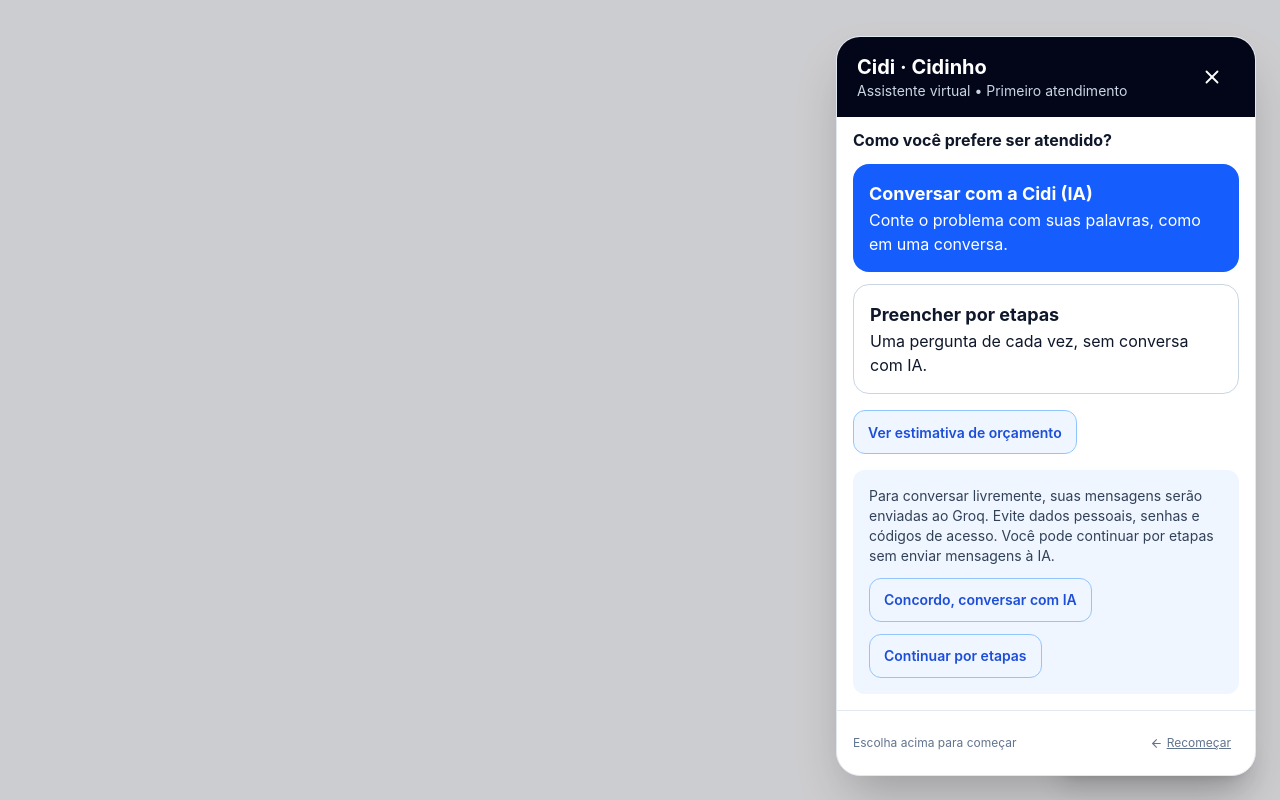
Test case: relato e modelo da conversa são usados no orçamento e preservados ao continuar a visita
This screenshot has width=1280, height=800.
Earlier steps of the test are not shown.
(page scrolled)
Click the button "Concordo, conversar com IA" at (980, 600), box [869,578,1092,622]
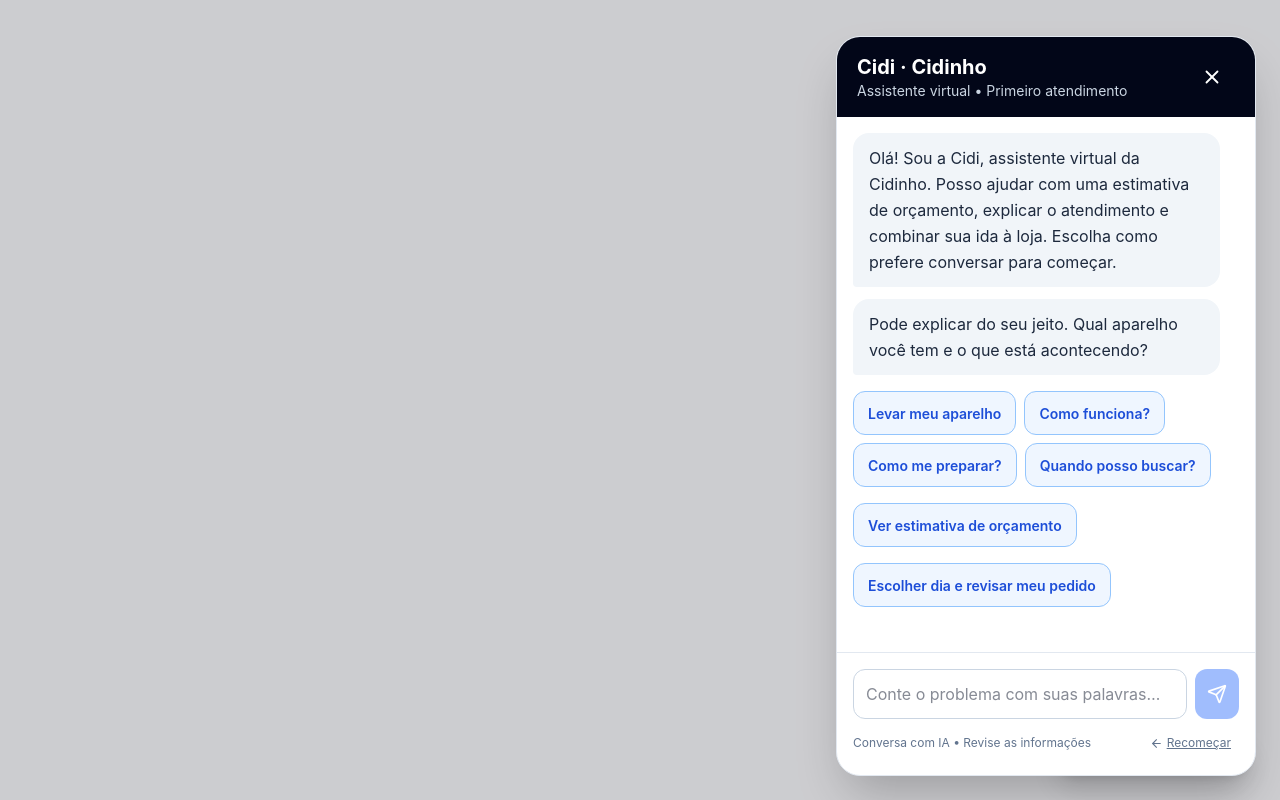
Type "Tô com problemas na tela do meu S23, queria um orçamento" into the field named "Sua mensagem para a Cidi" at (1020, 694), box [853,669,1187,719]
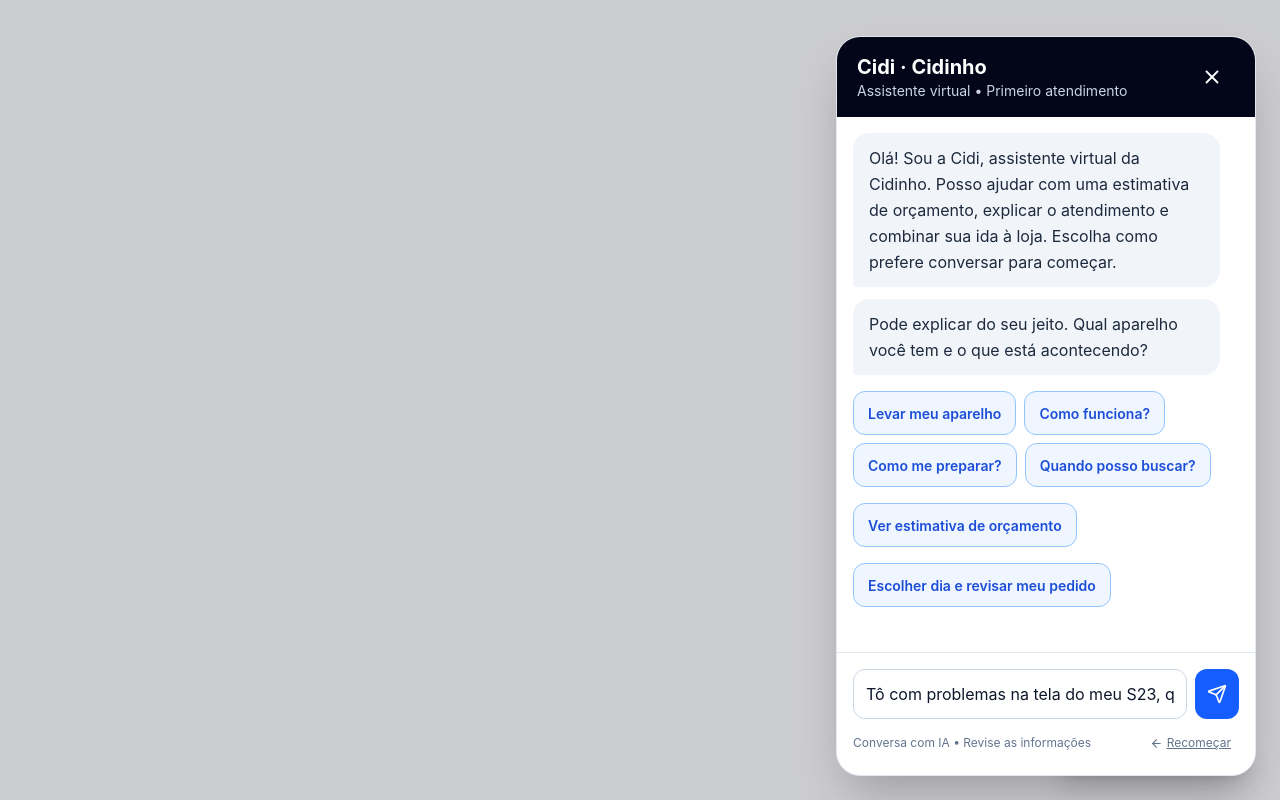
Click the button named "Enviar mensagem" at (1217, 694), box [1195,669,1239,719]
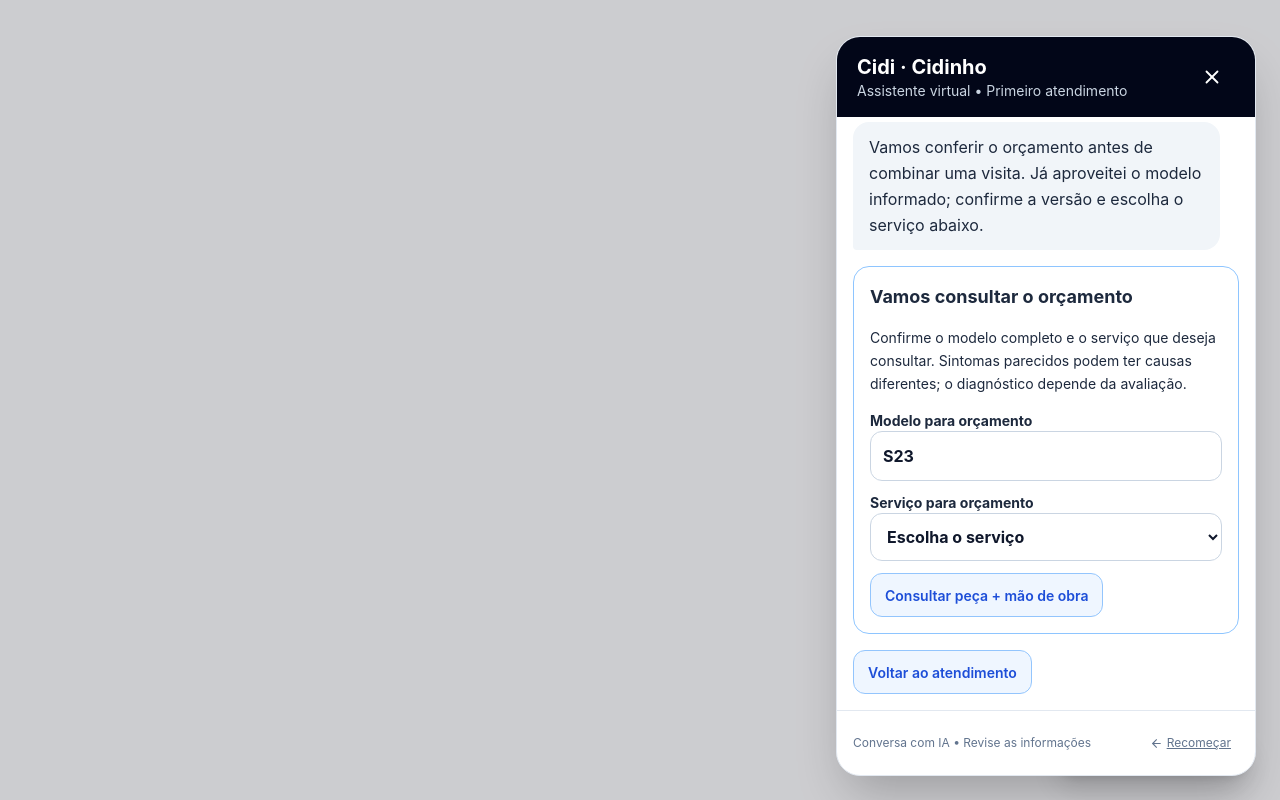
Expected: the text "Vamos conferir o orçamento antes de combinar uma visita" is shown, [869,137,1206,235]
Expected: the field labelled "Modelo para orçamento" holds "S23", [870,431,1222,481]
Select "Troca de tela" in the dropdown labelled "Serviço para orçamento" at (1046, 537), box [870,513,1222,561]
Click the button "Consultar peça + mão de obra" at (987, 595), box [870,573,1104,617]
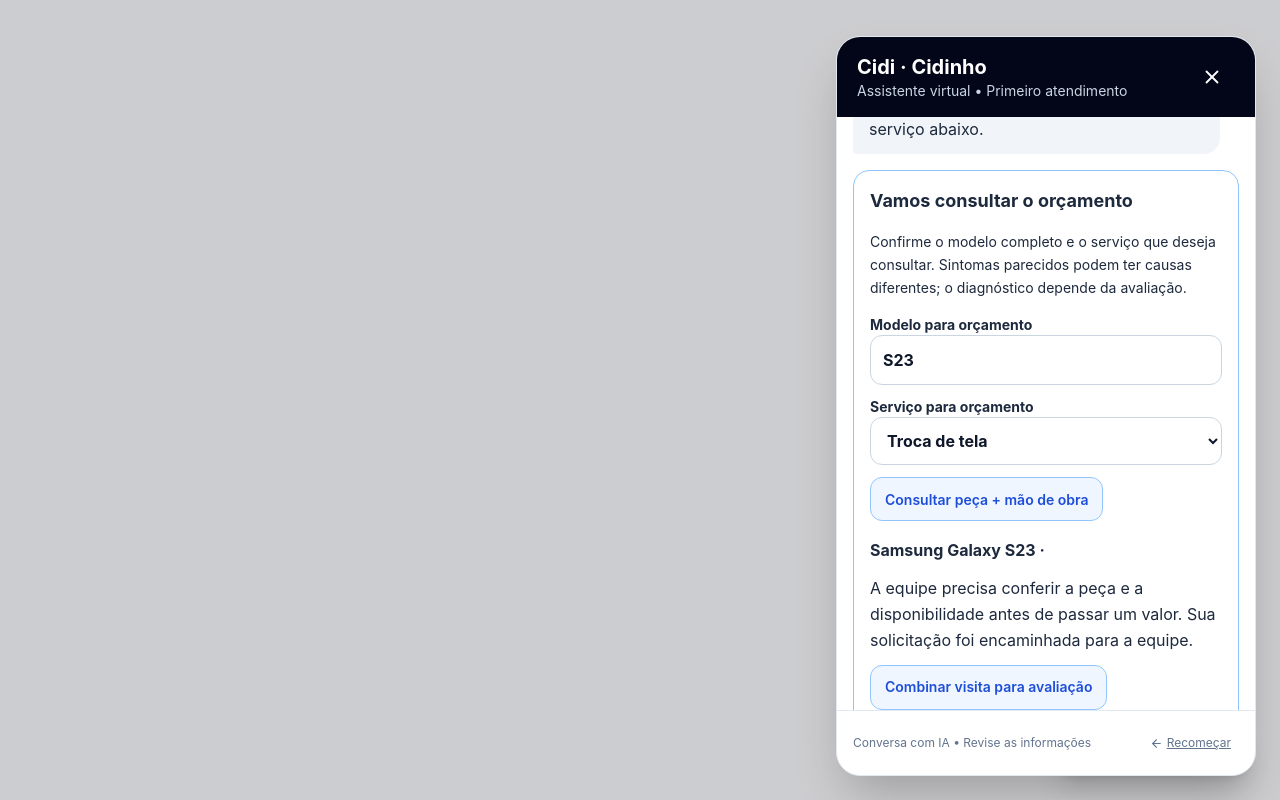
Click the button "Combinar visita para avaliação" at (989, 688), box [870,665,1107,710]
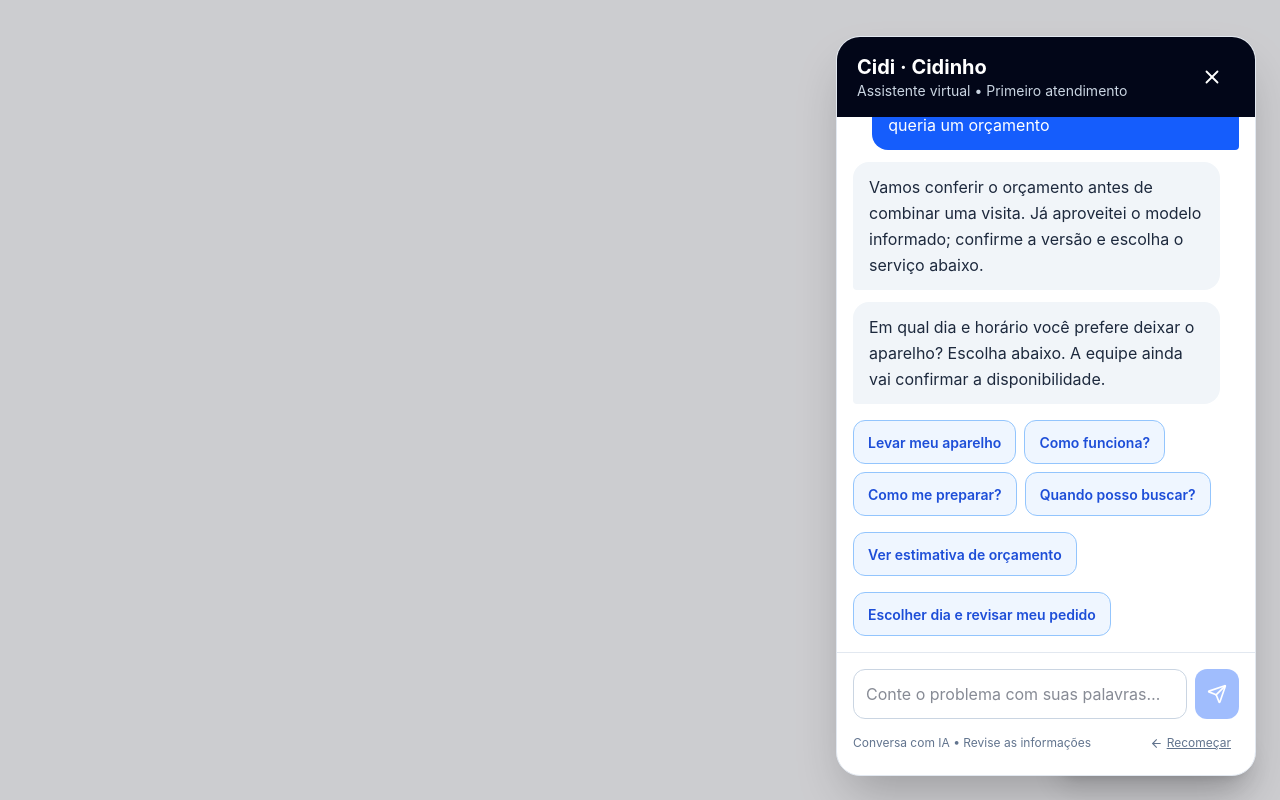
Click the button "Escolher dia e revisar meu pedido" at (982, 614), box [853,592,1111,636]
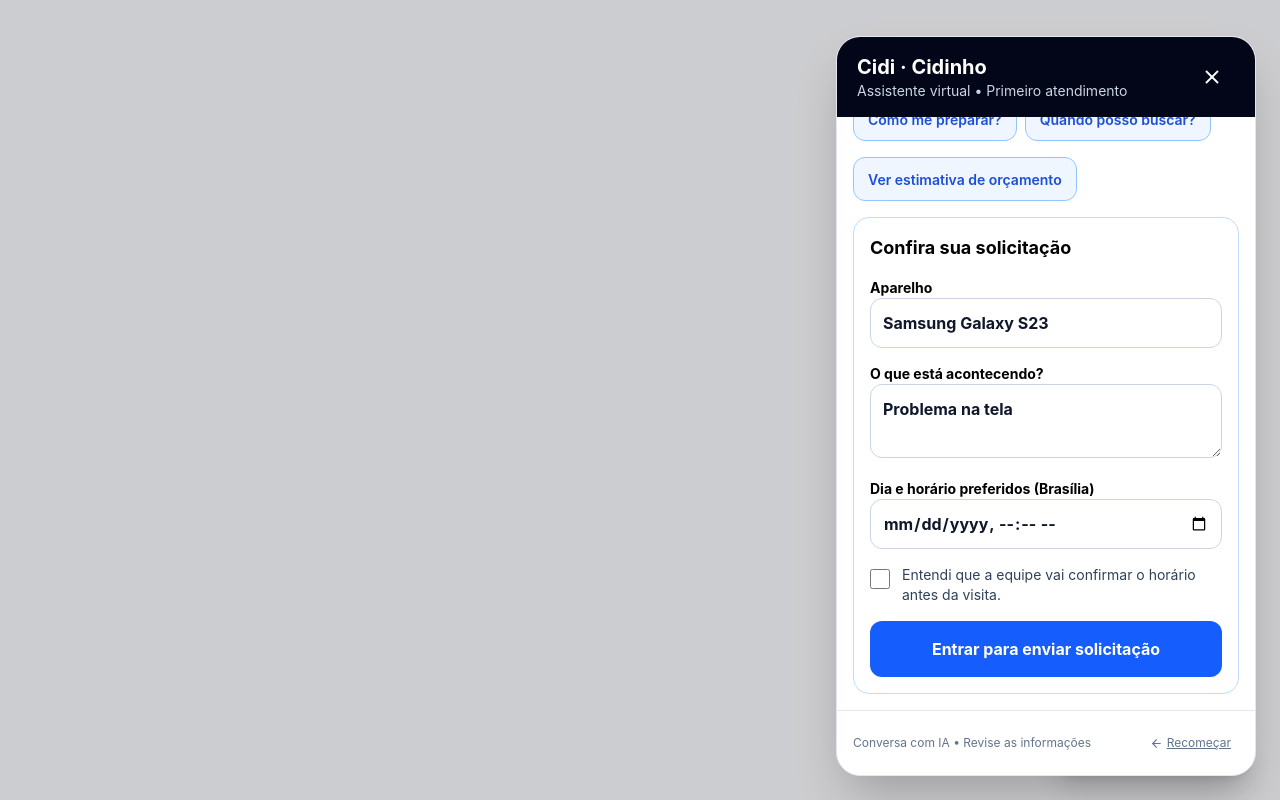
Expected: the field labelled "Aparelho" holds "Samsung Galaxy S23", [870,298,1222,348]
Expected: the text box labelled "O que está acontecendo?" holds "Problema na tela", [870,384,1222,458]
